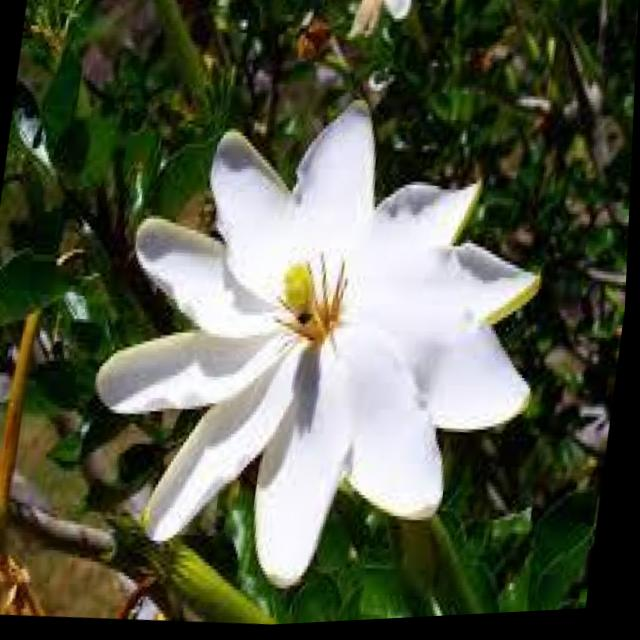Flower: (66, 64, 577, 633)
